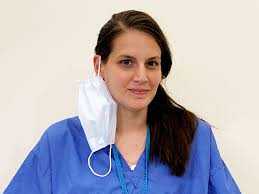mask_weared_incorrect: (76, 31, 164, 177)
